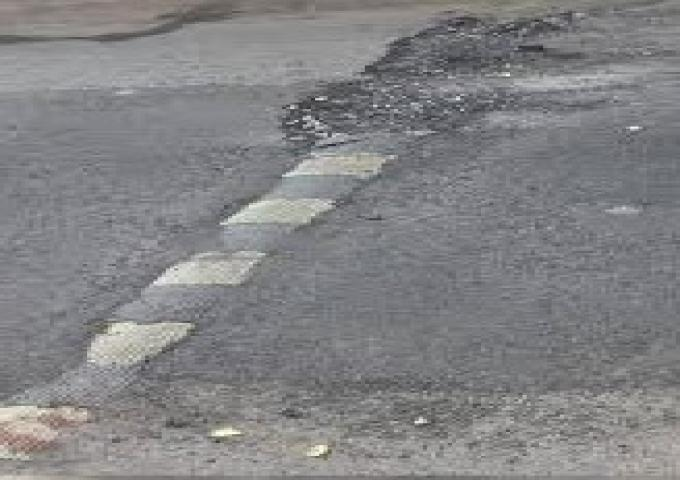speedbreaker: (5, 0, 646, 478)
